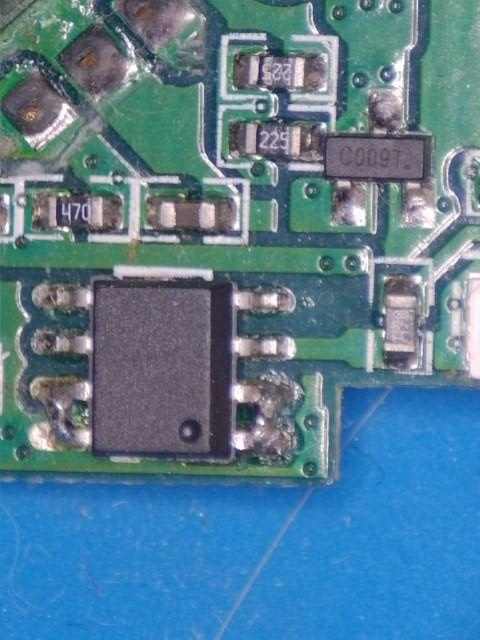pcb_defect: (231, 370, 303, 460), (32, 380, 91, 446)
